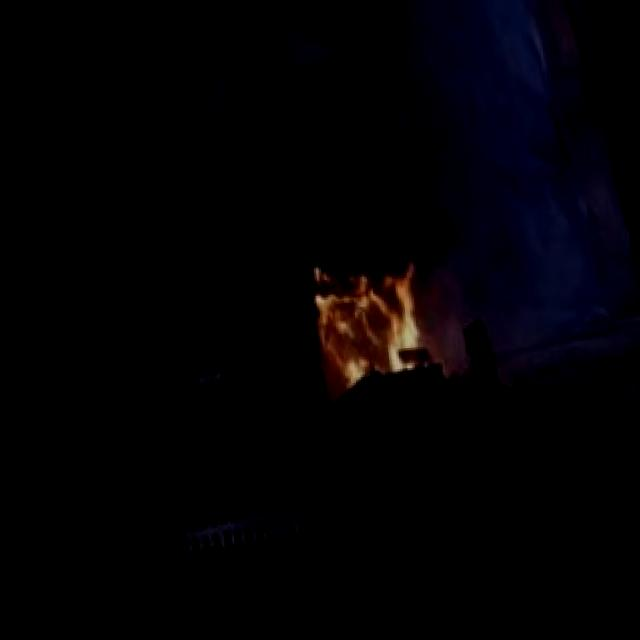fire: (280, 222, 455, 412)
